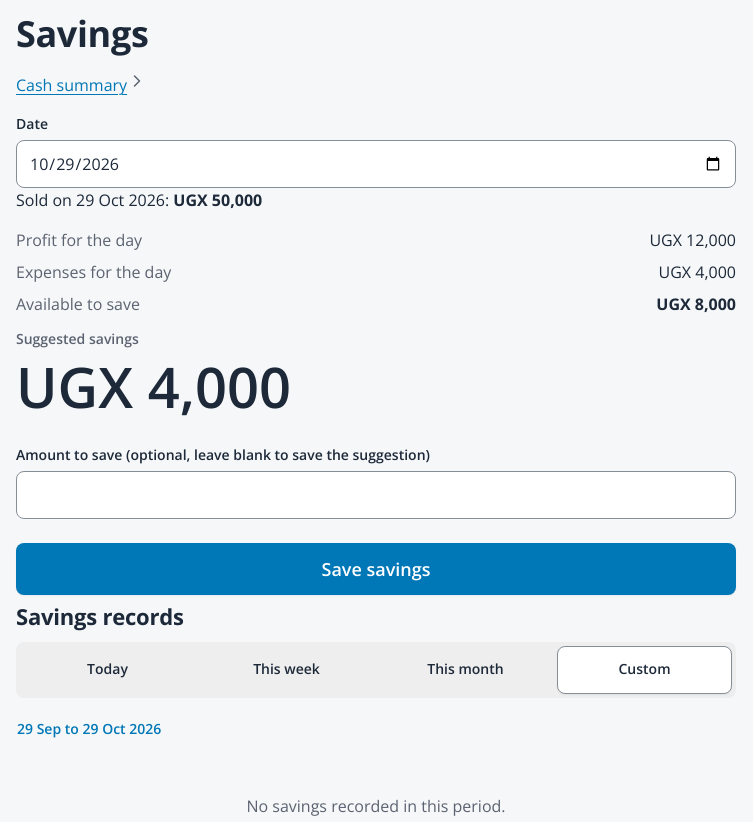
it: the savings screen › after a save shows the Saved panel with the amount and the day, no success toast, and the record at once
Expected: the text "UGX 4,000" below "Suggested savings" is shown, [16,348,291,424]
Expected: the text "No savings recorded in this period." is shown, [246,795,506,817]
Step 1. Click the button "Save savings" → click(376, 569), box [16,543,736,595]
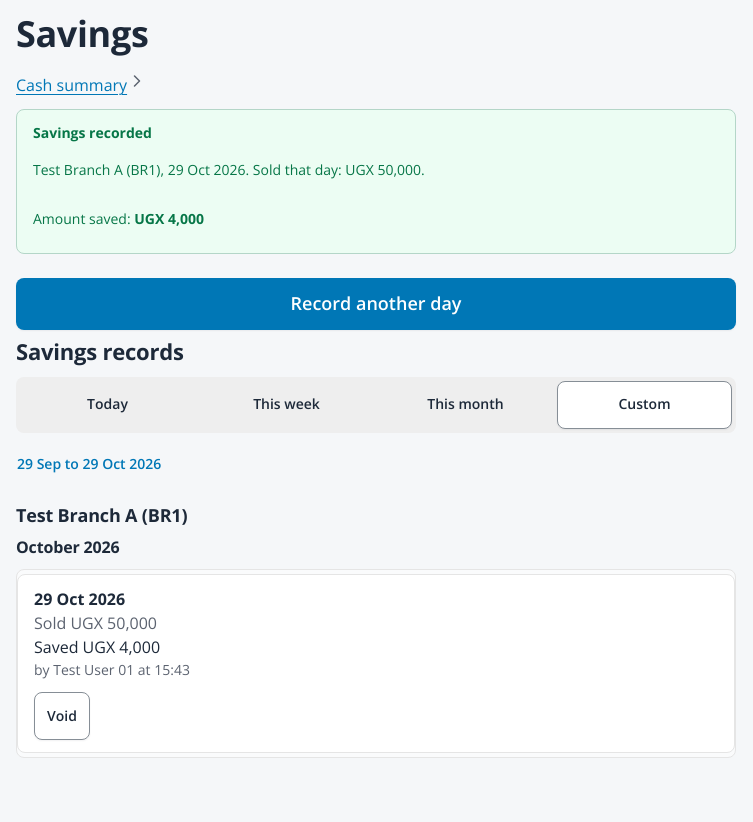
Expected: the element "Savings recorded" shows "Amount saved: UGX 4,000", [16,109,736,330]
Expected: the button "Record another day" is shown, [16,278,736,330]
Expected: the button "Save savings" is gone
